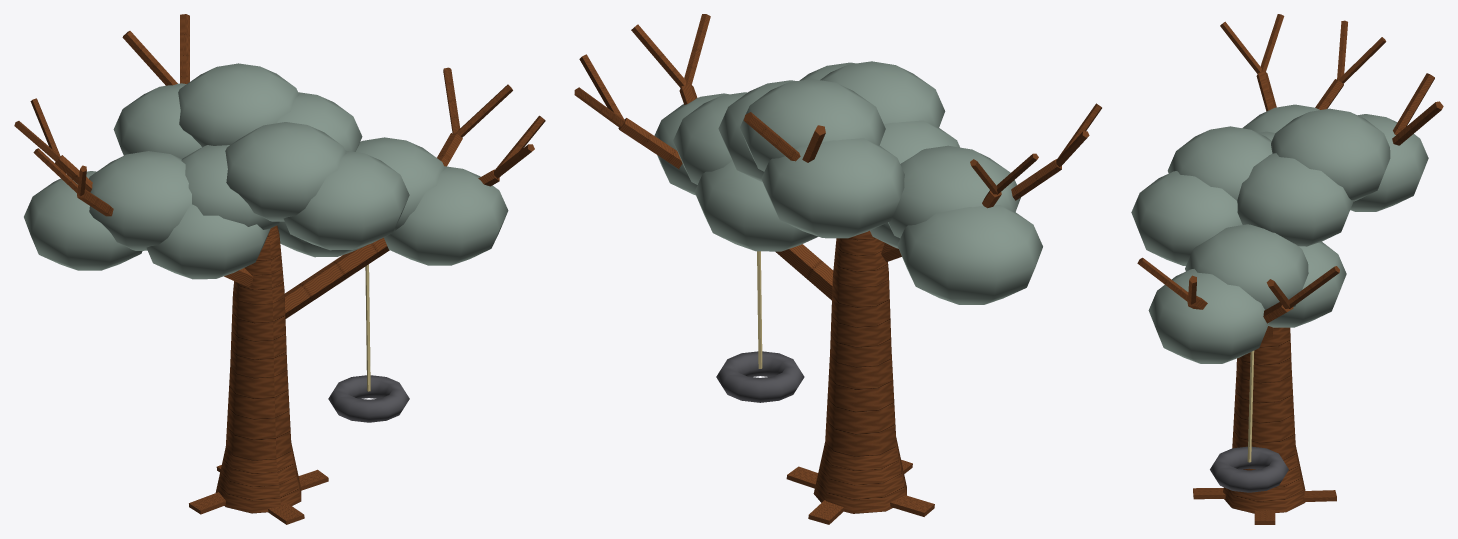
File: halloween-slasher-street-tyre-swing-tree-954307b5__27298.glb
The picture shows the model from 3 angles, left to right: view 1: azimuth 30°, elevation 25°; view 2: azimuth 150°, elevation 25°; view 3: azimuth 270°, elevation 25°; orthographic projection. The views are drawn at different scales.
Parts seen in each view (by area): view 1: tyre-swing-tree; view 2: tyre-swing-tree; view 3: tyre-swing-tree.
Boxes of the visible parts, x1=… form: tyre-swing-tree: x1=14, y1=14, x2=545, y2=524; tyre-swing-tree: x1=574, y1=14, x2=1101, y2=524; tyre-swing-tree: x1=1131, y1=14, x2=1443, y2=524.
Size of the model in its own units: 6.16 by 5.15 by 3.62.
Materials: 4 (1 with a texture image).
